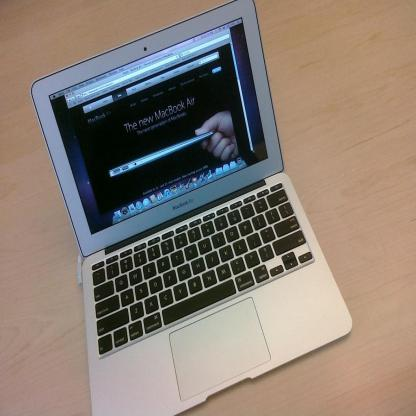board: (28, 0, 354, 415)
